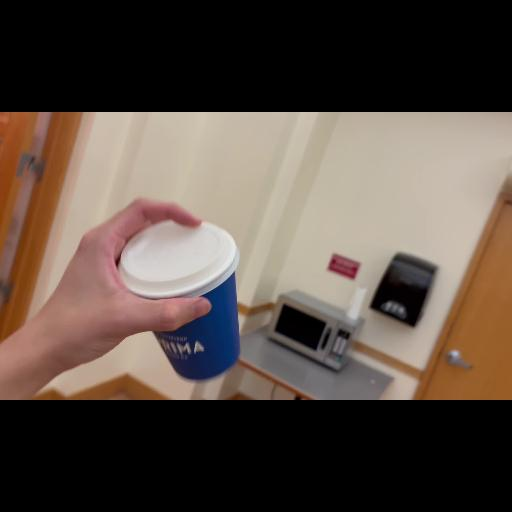lp_paper_cup: (122, 219, 244, 383)
